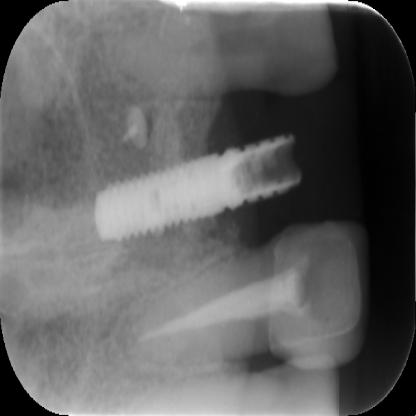ITI: (95, 150, 243, 249)
